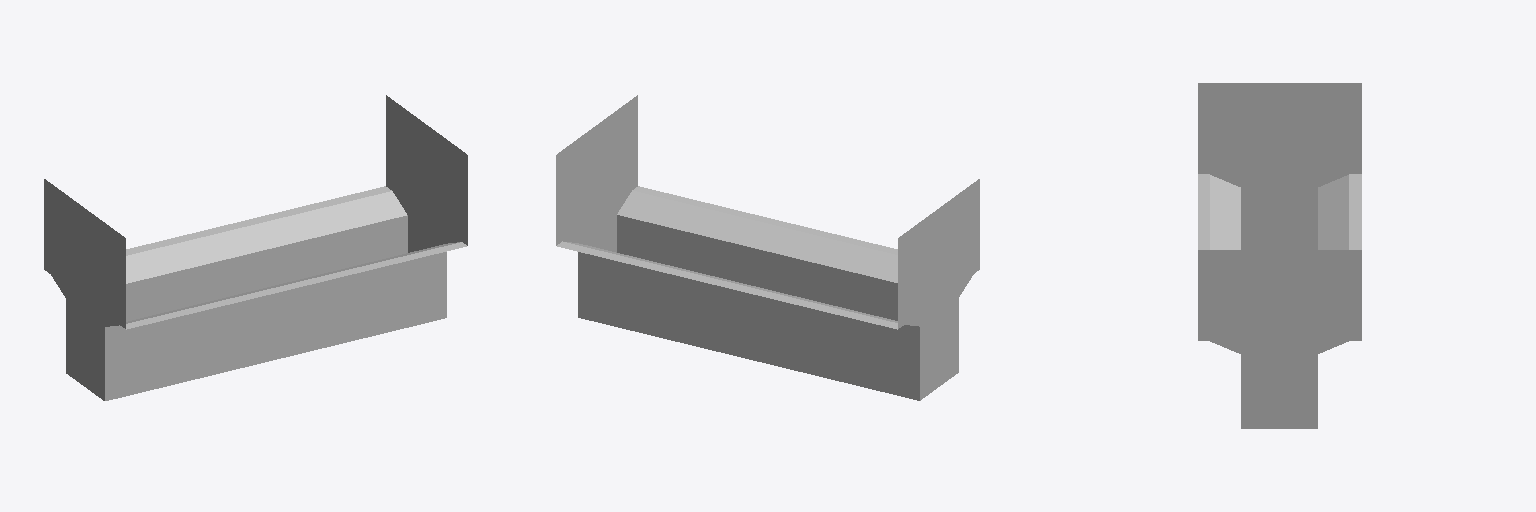
Rendered from cement_railing_rep_rep_lod0.obj.
The picture shows the model from 3 angles: view 1: azimuth 30°, elevation 25°; view 2: azimuth 150°, elevation 25°; view 3: azimuth 270°, elevation 25°; orthographic projection.
Visible parts, largest first — view 1: cement_railing_rep_rep_lod0; view 2: cement_railing_rep_rep_lod0; view 3: cement_railing_rep_rep_lod0.
Boxes of the visible parts, x1=… form: cement_railing_rep_rep_lod0: x1=44, y1=95, x2=467, y2=400; cement_railing_rep_rep_lod0: x1=556, y1=95, x2=979, y2=400; cement_railing_rep_rep_lod0: x1=1198, y1=83, x2=1361, y2=428.
Bounding box in the file's own units: 6 × 3 × 2.5.